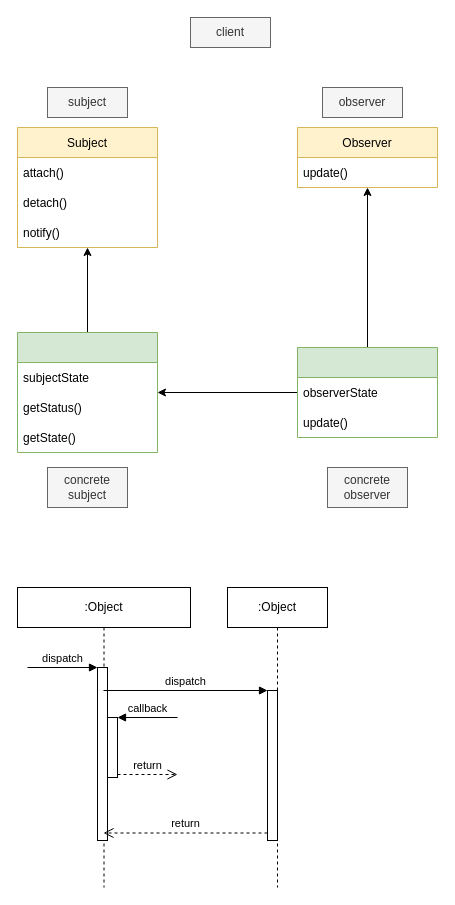
This 455x905 diagram has some shape labels left out. The box of each missing label's shape, as (x1, y1, x2, y2) in pixels:
ConcreteObserver: (296, 346, 438, 438)
ConcreteSubject: (16, 332, 158, 452)
